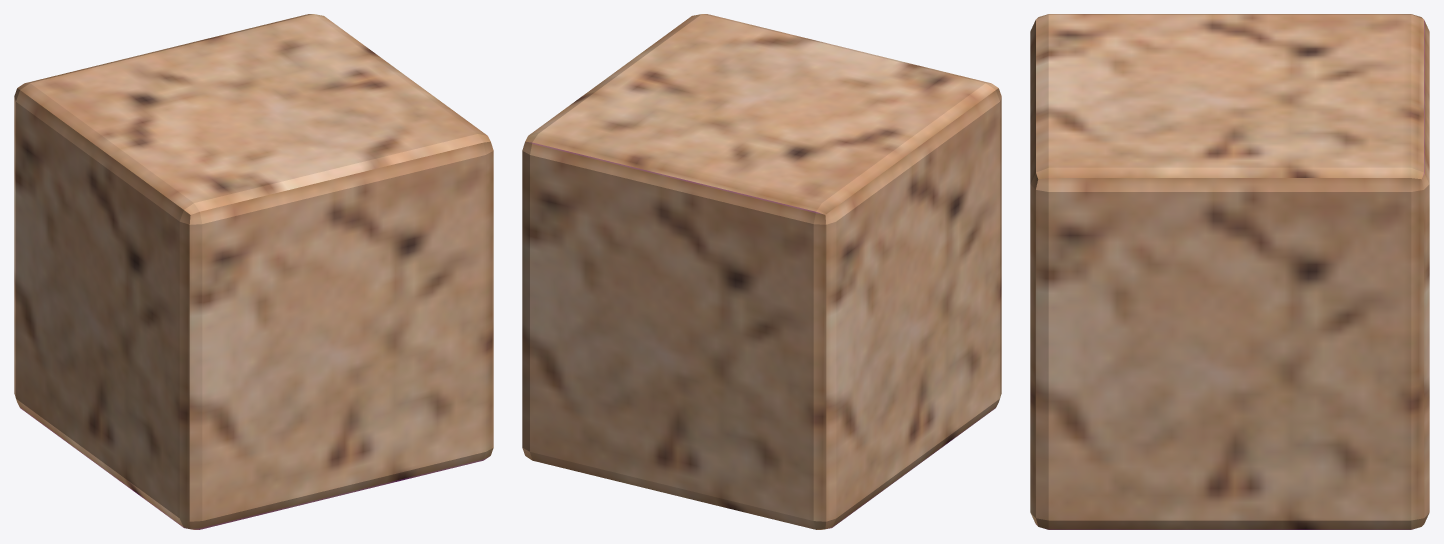
File: BreakCubeSmall.fbx
3 renders of one model, left to right at view 1: azimuth 30°, elevation 25°; view 2: azimuth 150°, elevation 25°; view 3: azimuth 270°, elevation 25°, orthographic. The views are drawn at different scales.
Visible parts, largest first — view 1: Cube.008; view 2: Cube.008; view 3: Cube.008.
Boxes of the visible parts, x1=… form: Cube.008: x1=14, y1=14, x2=493, y2=529; Cube.008: x1=522, y1=14, x2=1001, y2=529; Cube.008: x1=1030, y1=14, x2=1429, y2=529.
Bounding box in the file's own units: 200 × 200 × 200.
